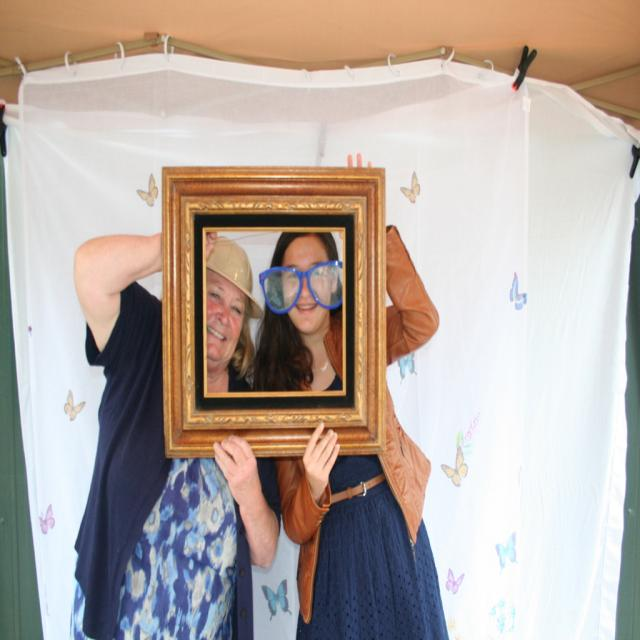Glasses: (253, 257, 344, 321)
